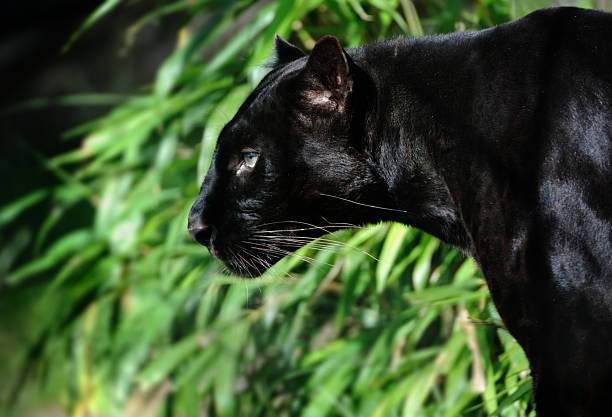panther: (163, 26, 410, 297)
